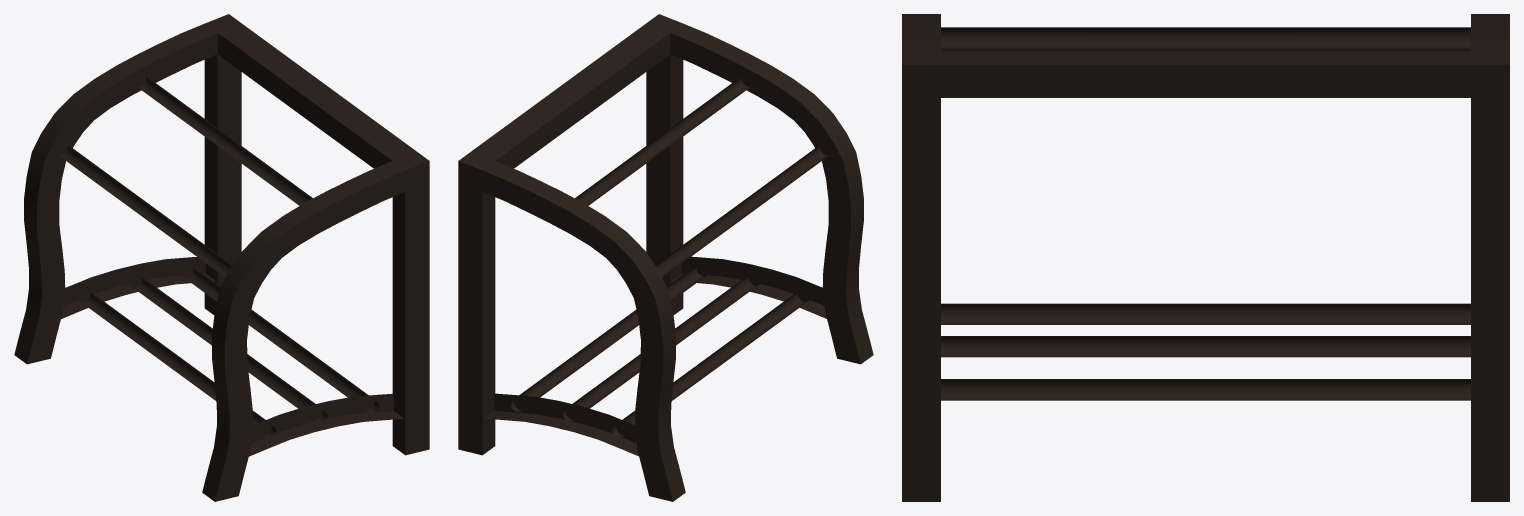
Rendered from F_Table_05.fbx.
3 renders of one model, left to right at view 1: azimuth 30°, elevation 25°; view 2: azimuth 150°, elevation 25°; view 3: azimuth 270°, elevation 25°, orthographic. The views are drawn at different scales.
Visible parts, largest first — view 1: F_Table_05; view 2: F_Table_05; view 3: F_Table_05.
Boxes of the visible parts, <box> form: F_Table_05: <box>14,14,429,501</box>; F_Table_05: <box>458,14,873,501</box>; F_Table_05: <box>902,14,1509,501</box>.
Size of the model in its own units: 54.81 by 70.43 by 88.73.
1 material, 1 textured.
